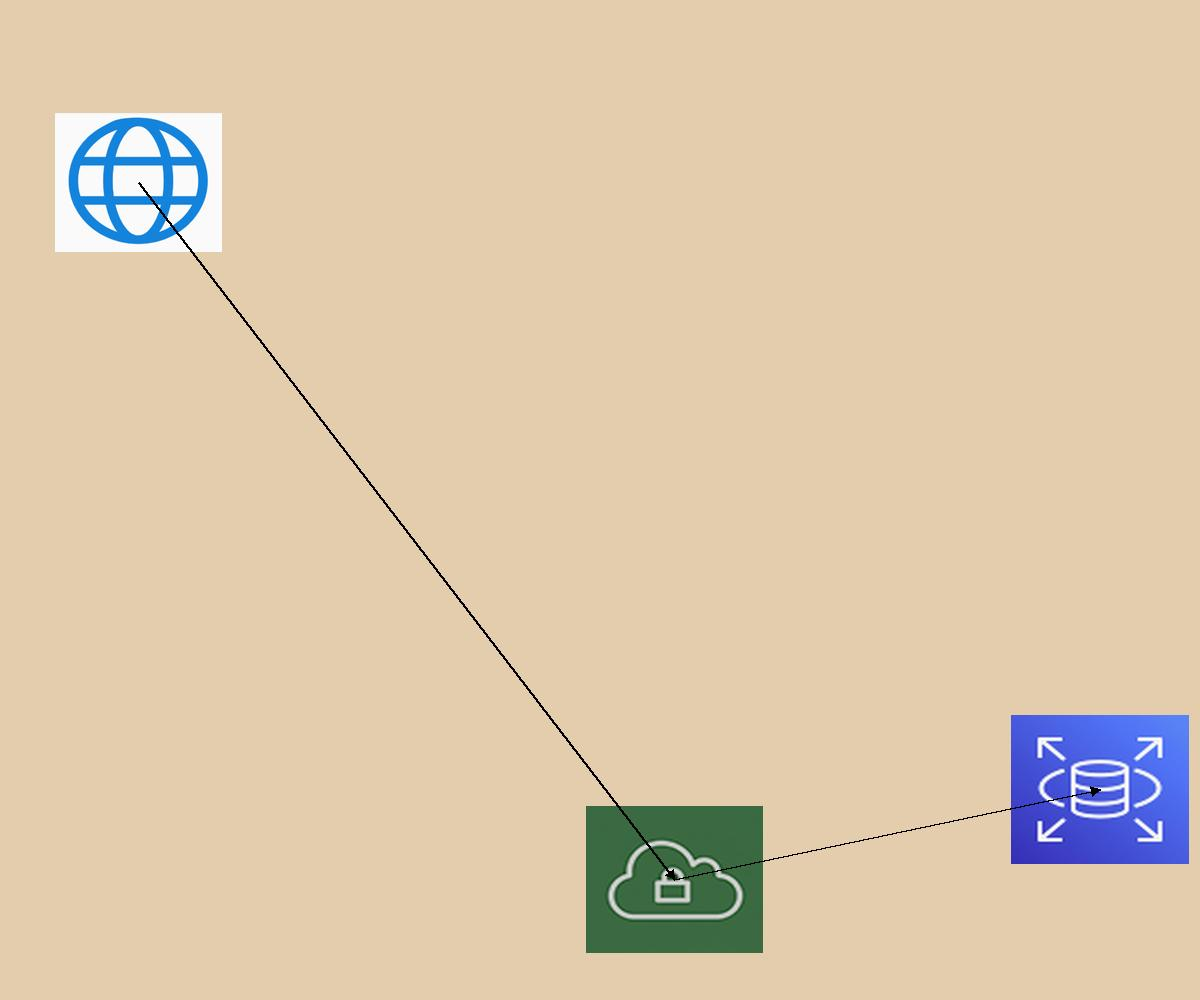AWS-Private_vpc: (586, 806, 763, 953)
AWS-RDS: (1011, 715, 1189, 864)
Azure_http: (55, 113, 222, 252)
